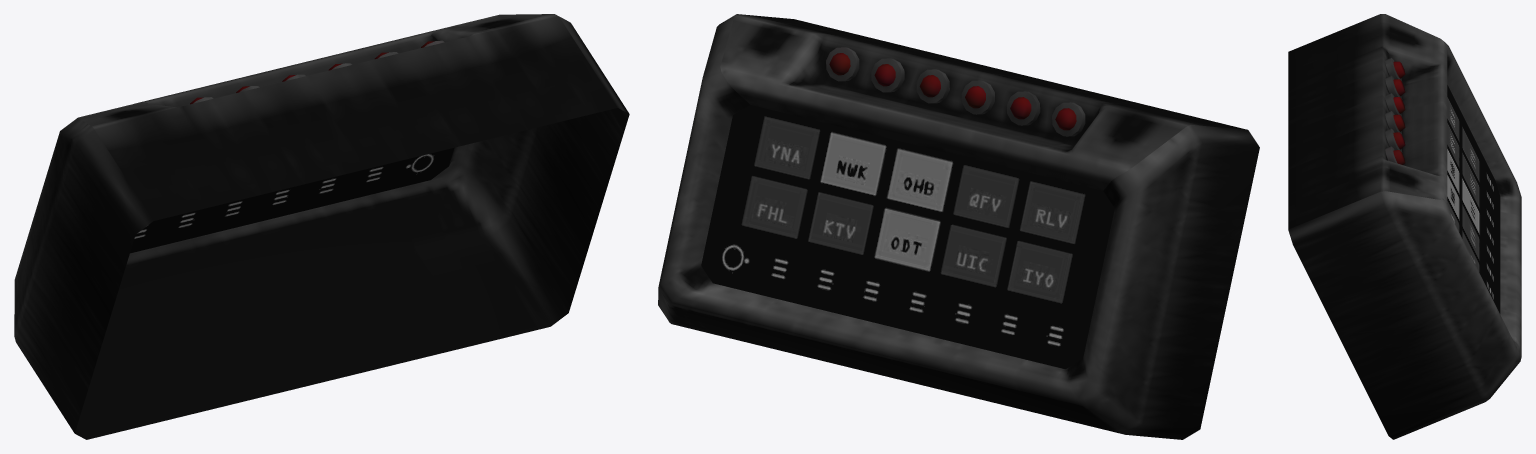
File: ScreenCenter.fbx
3 views of the same model, side by side, from view 1: azimuth 30°, elevation 25°; view 2: azimuth 150°, elevation 25°; view 3: azimuth 270°, elevation 25° (orthographic). The views are drawn at different scales.
Visible parts, largest first — view 1: monitors_displ_0.002; view 2: monitors_displ_0.002; view 3: monitors_displ_0.002.
Boxes of the visible parts, left/top/right/bottom form: monitors_displ_0.002: left=14, top=14, right=629, bottom=439; monitors_displ_0.002: left=658, top=14, right=1259, bottom=439; monitors_displ_0.002: left=1288, top=14, right=1521, bottom=439.
Bounding box in the file's own units: 17.99 × 11.04 × 9.39.
